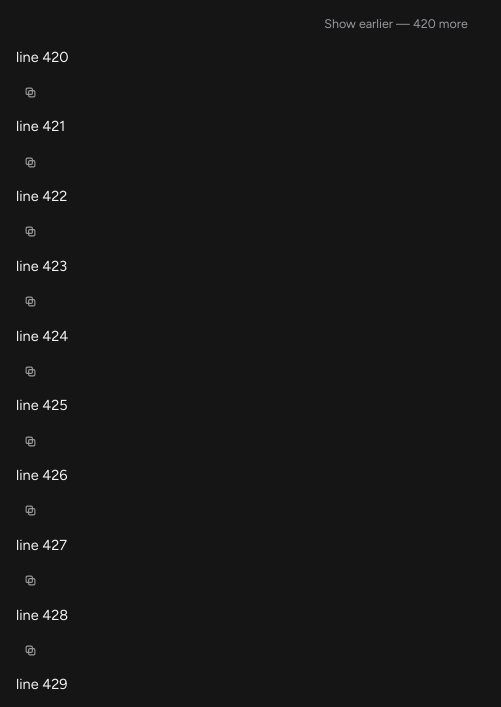
Test case: a transcript long enough to window › says how much is above, and grows the window when asked
The image size is (501, 707).
Click the button "Show earlier — 420 more": [396, 24] box 312,12 -> 480,36
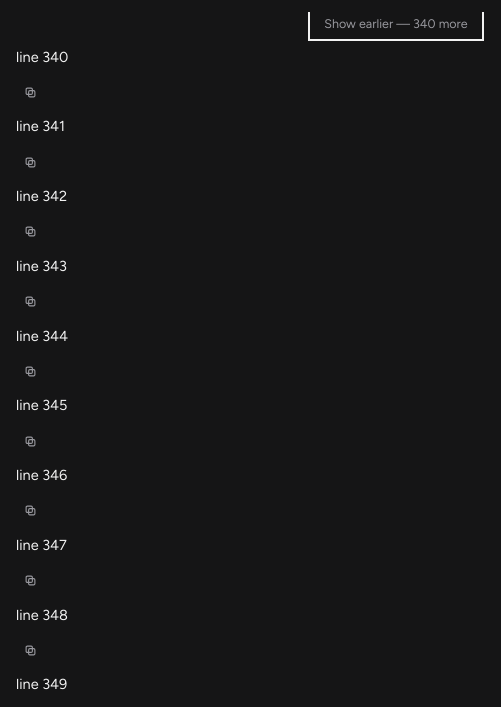
expect the number of elements with class "msg" is 160: met
expect the text "line 340" is shown: met, box 16,46 -> 68,68
